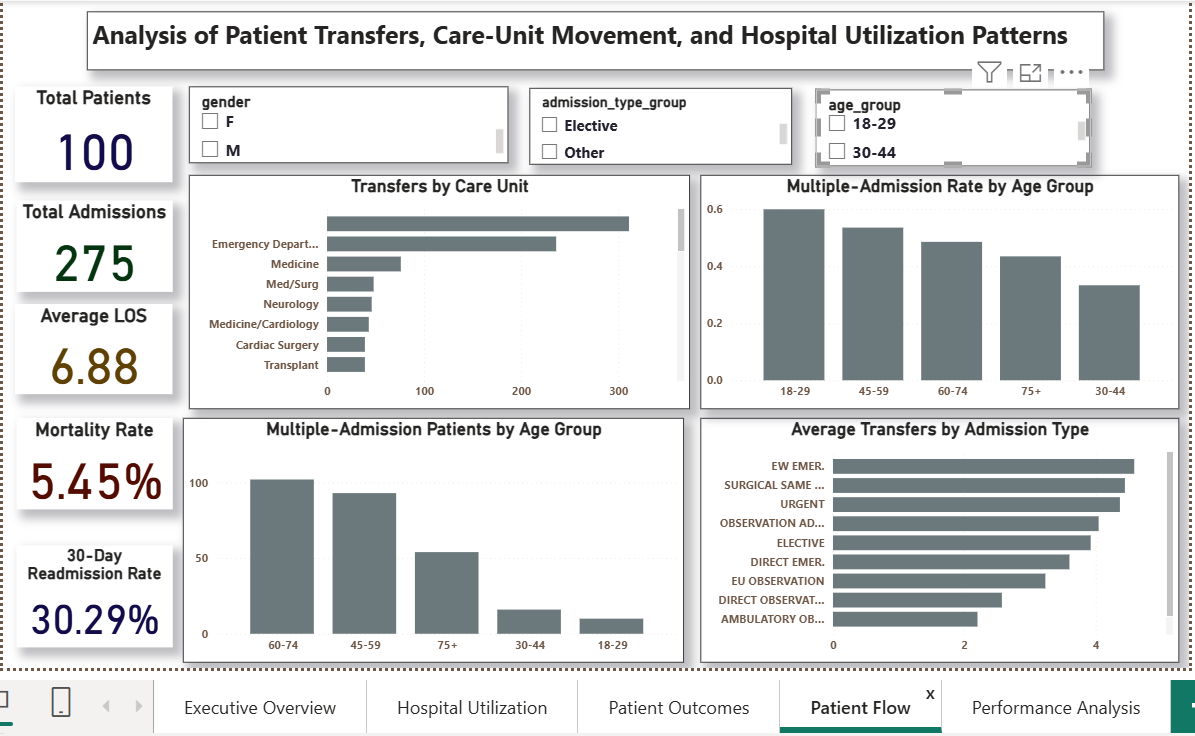

This screenshot's page, from the dashboard's own definition file:
{"tool":"powerbi","page":{"name":"Patient Flow","canvas":[1280,720],"ordinal":3},"visuals":[{"type":"textbox","box":[90.7,11.3,1097.8,63.1],"z":0},{"type":"slicer","fields":{"Values":["hospital_analytics.admission_type_group"]},"box":[568.3,93.9,283.4,82.6],"z":1},{"type":"slicer","fields":{"Values":["hospital_analytics.age_group"]},"box":[877.6,95.5,296.3,82.6],"z":2},{"type":"slicer","fields":{"Values":["hospital_analytics.gender"]},"box":[200.8,92.3,344.9,82.6],"z":3},{"type":"card","title":"Total Patients","fields":{"Values":["hospital_analytics.Total Patients"]},"box":[13,92.3,170,103.6],"z":4},{"type":"card","title":"Total Admissions","fields":{"Values":["hospital_analytics.Total Admissions"]},"box":[14.6,215.4,168.4,98.8],"z":5},{"type":"card","title":"Average LOS","fields":{"Values":["hospital_analytics.Average LOS"]},"box":[13,327.1,170,97.2],"z":6},{"type":"card","title":"Mortality Rate","fields":{"Values":["hospital_analytics.Mortality Rate"]},"box":[14.6,450.1,168.4,98.8],"z":7},{"type":"card","title":"30-Day Readmission Rate","fields":{"Values":["hospital_analytics.30-Day Readmission Rate"]},"box":[14.6,587.8,168.4,110.1],"z":8},{"type":"clusteredBarChart","title":"Transfers by Care Unit","fields":{"Category":["transfers.careunit"],"Y":["transfers.Total Transfers"]},"box":[200.8,187.8,540.8,252.6],"z":9},{"type":"clusteredBarChart","title":"Average Transfers by Admission Type","fields":{"Category":["hospital_analytics.admission_type"],"Y":["transfers.Average Transfers per Admission"]},"box":[752.9,450.1,516.5,263.9],"z":10},{"type":"columnChart","title":"Multiple-Admission Patients by Age Group","fields":{"Category":["hospital_analytics.age_group"],"Y":["CountNonNull(hospital_analytics.multiple_admissions)"]},"box":[194.3,450.1,540.8,263.9],"z":11},{"type":"clusteredColumnChart","title":"Multiple-Admission Rate by Age Group","fields":{"Category":["hospital_analytics.age_group"],"Y":["hospital_analytics.Multiple-Admission Rate by Group"]},"box":[752.9,187.8,516.5,252.6],"z":12}]}

Visuals, with their boxes on the page's 1280x720 design canvas (x1, y1, x2, y2). These are canvas units, not pixel positions in the 1195x736 screenshot, which may show the page scaled, cropped or inside an application window:
textbox: bbox=[91, 11, 1188, 74]
slicer - hospital_analytics.admission_type_group: bbox=[568, 94, 852, 176]
slicer - hospital_analytics.age_group: bbox=[878, 96, 1174, 178]
slicer - hospital_analytics.gender: bbox=[201, 92, 546, 175]
"Total Patients" card: bbox=[13, 92, 183, 196]
"Total Admissions" card: bbox=[15, 215, 183, 314]
"Average LOS" card: bbox=[13, 327, 183, 424]
"Mortality Rate" card: bbox=[15, 450, 183, 549]
"30-Day Readmission Rate" card: bbox=[15, 588, 183, 698]
"Transfers by Care Unit" clusteredBarChart: bbox=[201, 188, 742, 440]
"Average Transfers by Admission Type" clusteredBarChart: bbox=[753, 450, 1269, 714]
"Multiple-Admission Patients by Age Group" columnChart: bbox=[194, 450, 735, 714]
"Multiple-Admission Rate by Age Group" clusteredColumnChart: bbox=[753, 188, 1269, 440]
